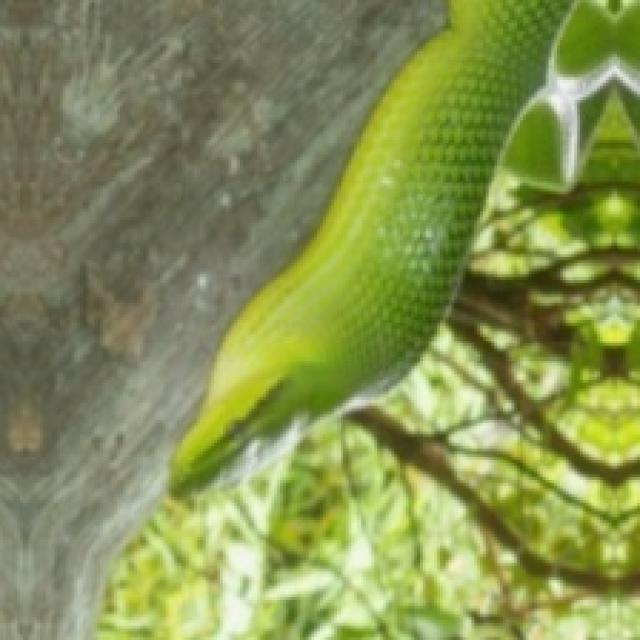red-tailed green ratsnake: (171, 0, 566, 489)
